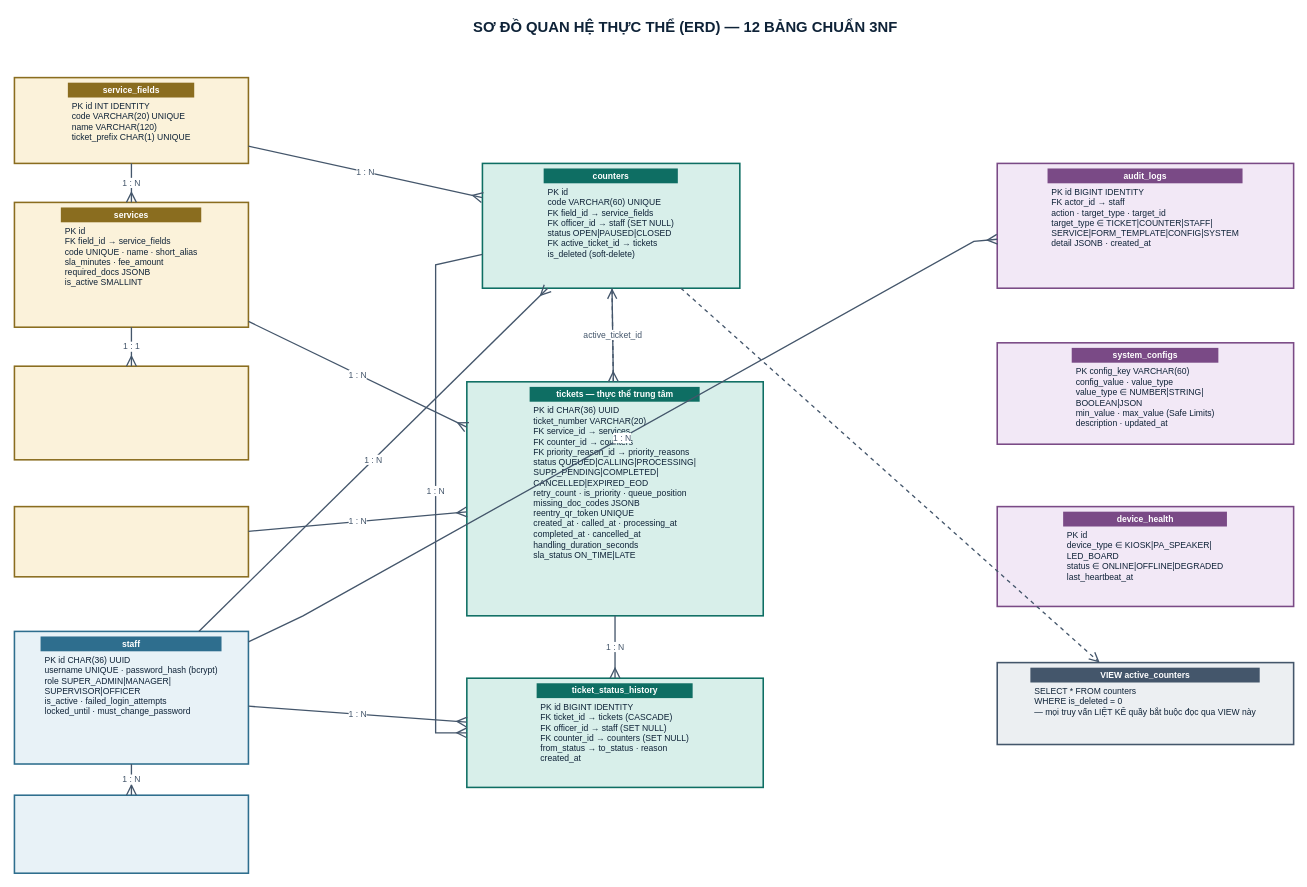
This 1307x887 diagram has some shape labels left out. Here are the shapes that lost their labels. From the top down, the centre of each, then its label:
(131,412): form_templates PK id FK service_id → services shelf_name fill_guide JSONB
(131,541): priority_reasons PK id code UNIQUE · label (danh mục lý do ưu tiên CỨNG)
(131,834): staff_sessions PK token VARCHAR(64) FK staff_id → staff role · expires_at
